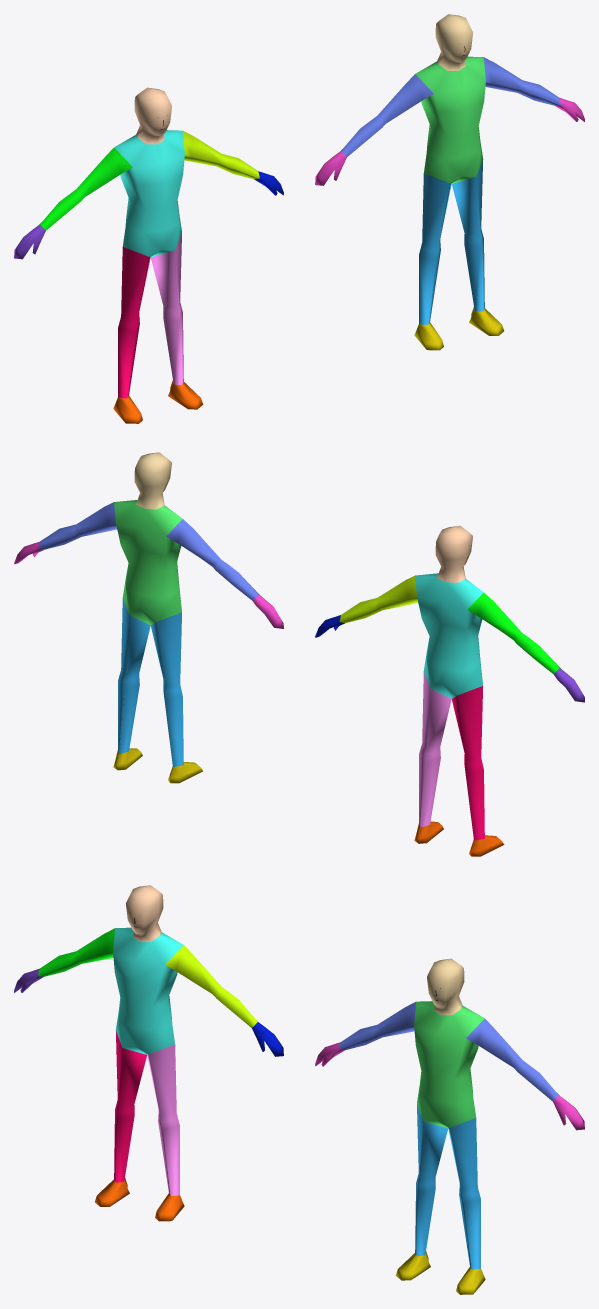
Rendered from Humanoid.glb.
3 renders of one model, top to bottom at view 1: azimuth 30°, elevation 25°; view 2: azimuth 150°, elevation 25°; view 3: azimuth 330°, elevation 25°, orthographic.
Parts seen in each view (by area): view 1: HumanoidBase_Overlapping, HumanoidBase_NotOverlapping; view 2: HumanoidBase_NotOverlapping, HumanoidBase_Overlapping; view 3: HumanoidBase_NotOverlapping, HumanoidBase_Overlapping.
Part boxes in pixels (x1=…): HumanoidBase_Overlapping: x1=315, y1=14, x2=584, y2=350; HumanoidBase_NotOverlapping: x1=14, y1=87, x2=283, y2=423; HumanoidBase_NotOverlapping: x1=315, y1=525, x2=584, y2=856; HumanoidBase_Overlapping: x1=14, y1=452, x2=283, y2=783; HumanoidBase_NotOverlapping: x1=14, y1=885, x2=283, y2=1221; HumanoidBase_Overlapping: x1=315, y1=958, x2=584, y2=1294.
Size of the model in its own units: 3.41 by 1.8 by 0.2862.
Materials: 2 (2 with a texture image).
